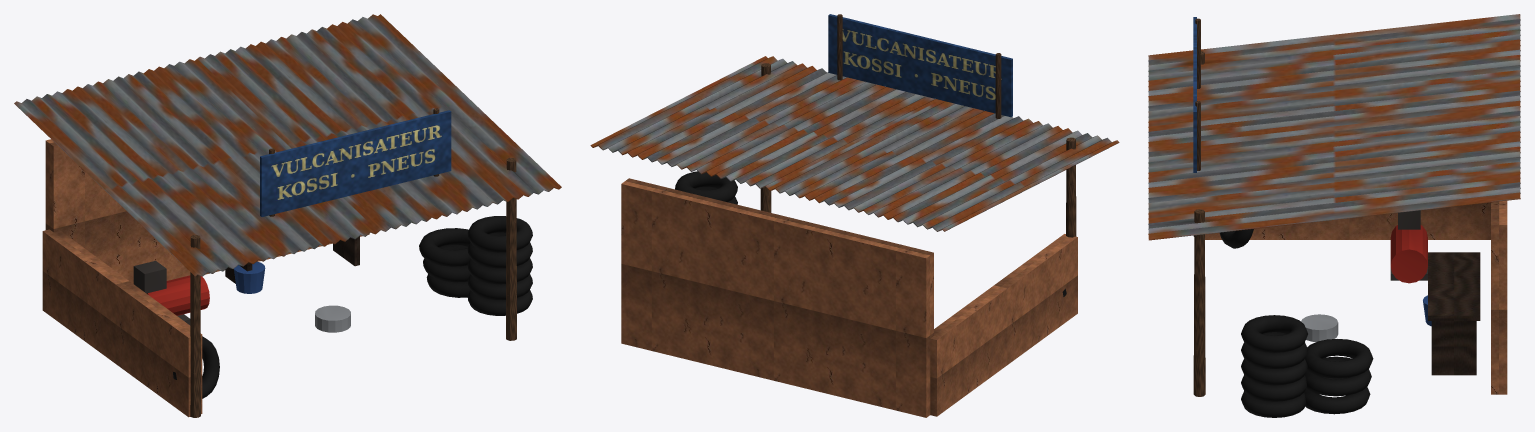
The model's file is az-atelier.glb.
3 renders of one model, left to right at view 1: azimuth 30°, elevation 25°; view 2: azimuth 150°, elevation 25°; view 3: azimuth 270°, elevation 25°, orthographic. The views are drawn at different scales.
Visible parts, largest first — view 1: az-atelier_az_tin, az-atelier_az_banco2, az-atelier_az_sign_vulc, az-atelier_az_rubber, az-atelier_az_wood, az-atelier_az_enamel_red, az-atelier_az_iron, az-atelier_az_rim, az-atelier_az_bluetank, az-atelier_az_wood_dark; view 2: az-atelier_az_banco2, az-atelier_az_tin, az-atelier_az_sign_vulc, az-atelier_az_wood, az-atelier_az_rubber; view 3: az-atelier_az_tin, az-atelier_az_rubber, az-atelier_az_banco2, az-atelier_az_wood_dark, az-atelier_az_wood, az-atelier_az_enamel_red, az-atelier_az_rim, az-atelier_az_sign_vulc, az-atelier_az_iron.
Boxes of the visible parts, <box> form: az-atelier_az_tin: <box>14,14,561,276</box>; az-atelier_az_banco2: <box>42,139,369,417</box>; az-atelier_az_sign_vulc: <box>260,110,451,216</box>; az-atelier_az_rubber: <box>173,216,532,398</box>; az-atelier_az_wood: <box>190,108,516,417</box>; az-atelier_az_enamel_red: <box>147,275,209,315</box>; az-atelier_az_iron: <box>133,260,190,325</box>; az-atelier_az_rim: <box>315,305,350,332</box>; az-atelier_az_bluetank: <box>234,261,265,293</box>; az-atelier_az_wood_dark: <box>225,236,359,283</box>; az-atelier_az_banco2: <box>621,178,1077,417</box>; az-atelier_az_tin: <box>590,56,1119,231</box>; az-atelier_az_sign_vulc: <box>828,14,1012,117</box>; az-atelier_az_wood: <box>760,14,1076,237</box>; az-atelier_az_rubber: <box>675,171,1066,296</box>; az-atelier_az_tin: <box>1148,14,1520,240</box>; az-atelier_az_rubber: <box>1219,229,1373,417</box>; az-atelier_az_banco2: <box>1205,200,1507,394</box>; az-atelier_az_wood_dark: <box>1428,252,1480,375</box>; az-atelier_az_wood: <box>1193,18,1205,396</box>; az-atelier_az_enamel_red: <box>1390,225,1427,283</box>; az-atelier_az_rim: <box>1301,314,1338,341</box>; az-atelier_az_sign_vulc: <box>1193,17,1196,172</box>; az-atelier_az_iron: <box>1390,210,1427,280</box>.
Bounding box in the file's own units: 6.25 × 3.75 × 4.97.
10 materials, 5 textured.
